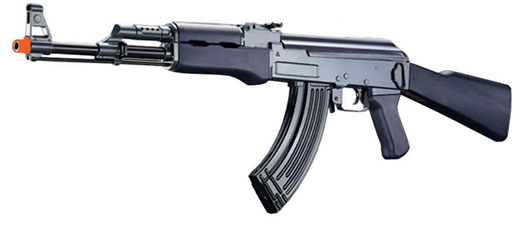rifle: (16, 3, 508, 208)
